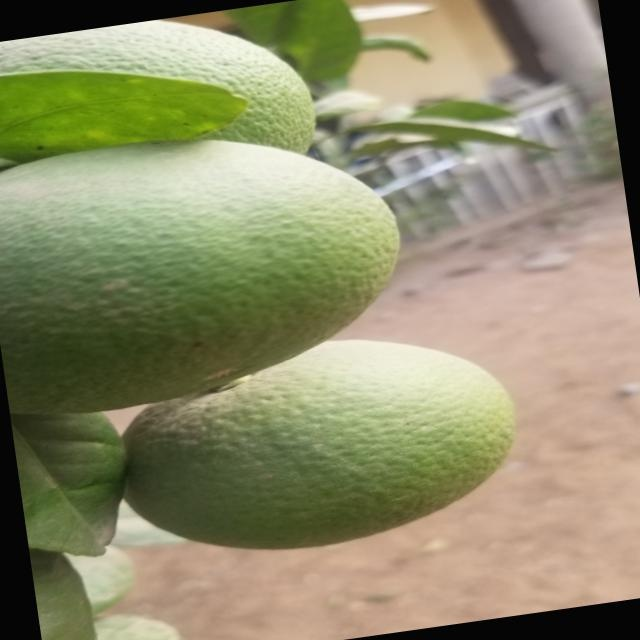agrume: (0, 115, 403, 426), (113, 316, 532, 572), (0, 3, 309, 195)
